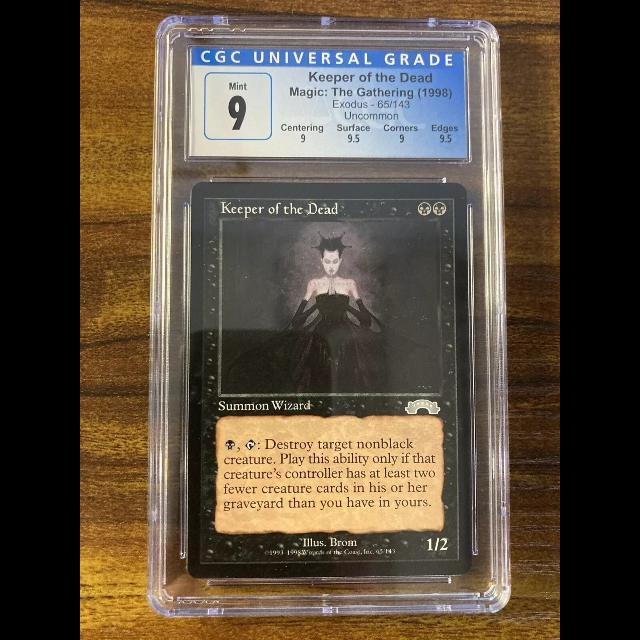card: (186, 180, 474, 579)
cgc_label_old: (189, 44, 469, 160)
cgc_slab: (148, 14, 513, 618)
